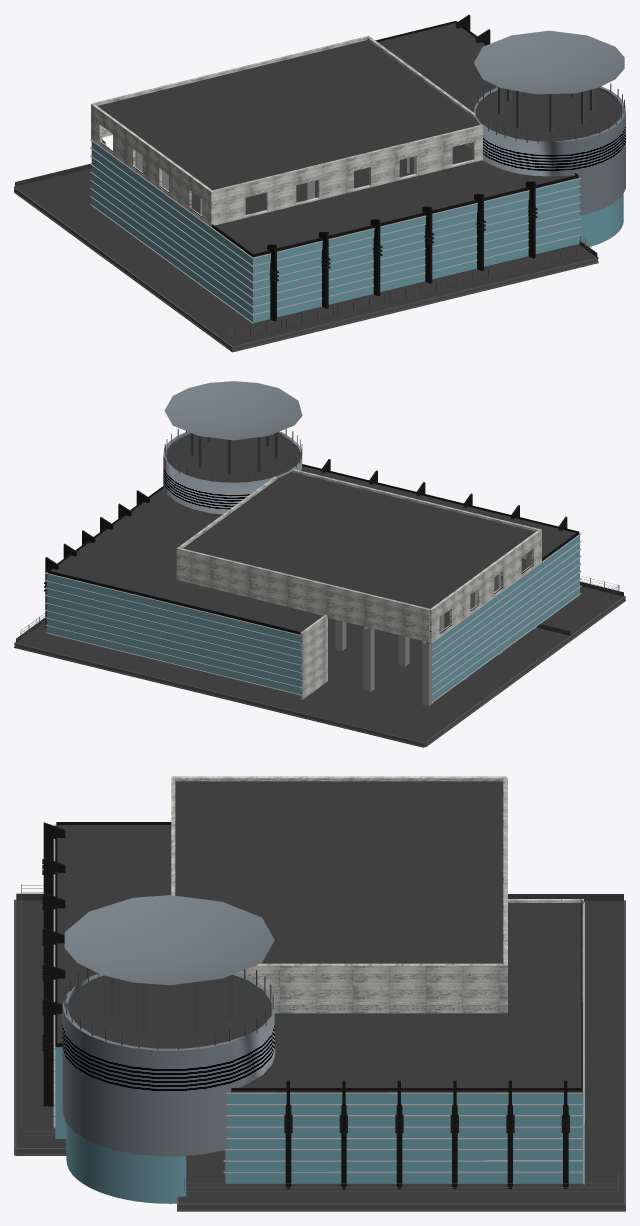
Rendered from office2_top_LOD1.FBX.
3 views of the same model, one above another, from view 1: azimuth 30°, elevation 25°; view 2: azimuth 150°, elevation 25°; view 3: azimuth 270°, elevation 25° (orthographic). The views are drawn at different scales.
Visible parts, largest first — view 1: top001, structure001, glass001, walls002, columns002; view 2: top001, structure001, glass001, walls002, columns002; view 3: top001, structure001, glass001, walls002.
Boxes of the visible parts, bbox=[...] form: top001: bbox=[15, 23, 622, 346]; structure001: bbox=[14, 14, 625, 352]; glass001: bbox=[91, 141, 623, 323]; walls002: bbox=[91, 35, 482, 226]; columns002: bbox=[94, 140, 452, 295]; top001: bbox=[16, 433, 623, 742]; structure001: bbox=[14, 381, 625, 747]; glass001: bbox=[46, 534, 579, 700]; walls002: bbox=[176, 469, 541, 699]; columns002: bbox=[129, 550, 536, 706]; top001: bbox=[16, 781, 623, 1203]; structure001: bbox=[14, 822, 625, 1211]; glass001: bbox=[55, 825, 583, 1203]; walls002: bbox=[171, 776, 583, 1013].
Bounding box in the file's own units: 7175 × 2409 × 6082.
